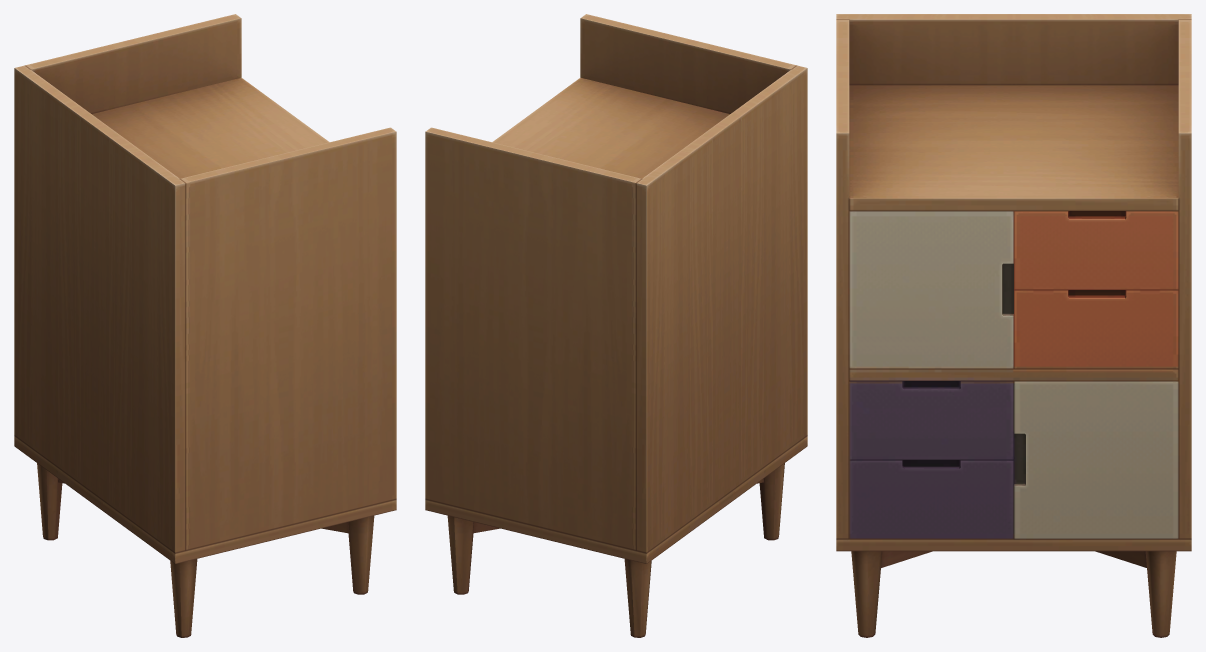
File: 矮款格柜梳妆台.glb
The picture shows the model from 3 angles, left to right: view 1: azimuth 30°, elevation 25°; view 2: azimuth 150°, elevation 25°; view 3: azimuth 270°, elevation 25°; orthographic projection. The views are drawn at different scales.
Parts seen in each view (by area): view 1: TinyLiving_StubbyCubbyDresser_38; view 2: TinyLiving_StubbyCubbyDresser_38; view 3: TinyLiving_StubbyCubbyDresser_38.
Part boxes in pixels (bbox=[...]): TinyLiving_StubbyCubbyDresser_38: bbox=[14, 14, 396, 637]; TinyLiving_StubbyCubbyDresser_38: bbox=[425, 14, 807, 637]; TinyLiving_StubbyCubbyDresser_38: bbox=[836, 14, 1191, 637].
Size of the model in its own units: 0.6752 by 1.36 by 0.85.
Materials: 1 (1 with a texture image).
